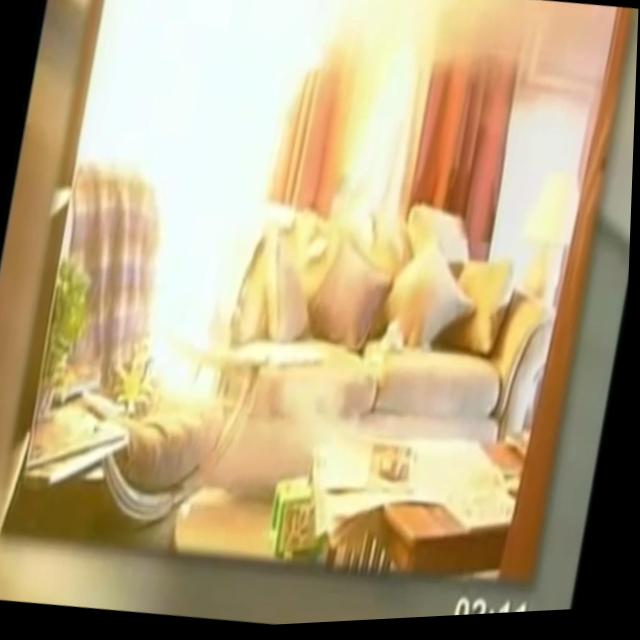fire: (108, 0, 304, 414)
